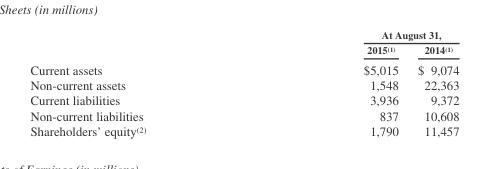table: (29, 28, 458, 137)
table column: (29, 28, 254, 137), (254, 28, 407, 137), (407, 28, 458, 137)
table column header: (29, 28, 458, 58)
table row: (29, 58, 458, 77), (29, 42, 458, 58), (29, 107, 458, 123), (29, 77, 458, 92), (29, 92, 458, 107), (29, 28, 458, 42), (29, 123, 458, 137)
table spanning cell: (254, 28, 458, 42)
